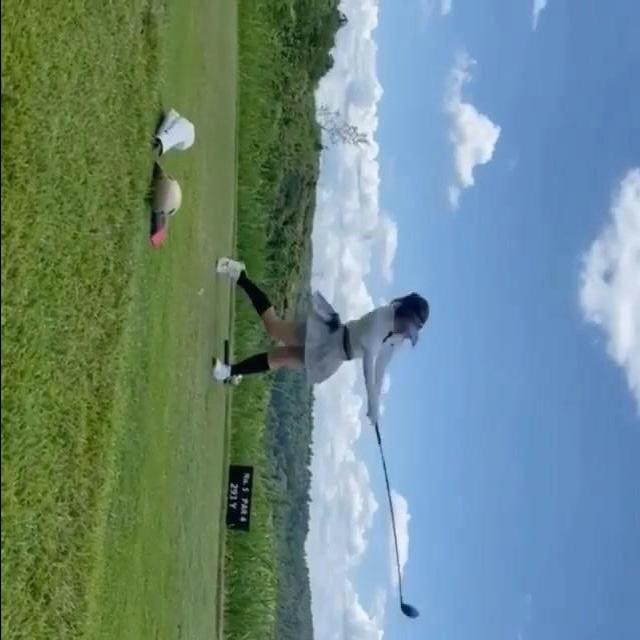golf club-handle: (374, 421, 422, 619)
golf club-head: (400, 603, 420, 618)
